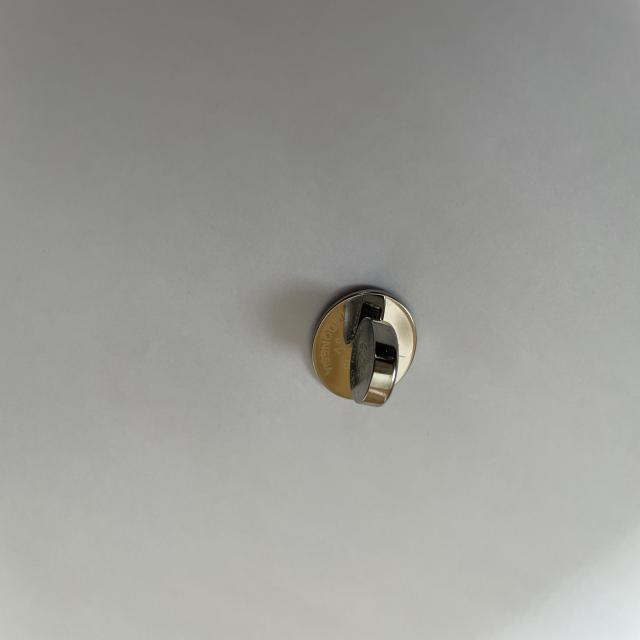COIN: (311, 290, 417, 404), (348, 318, 399, 408)
